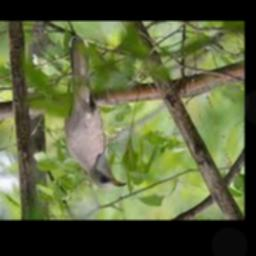Cuckoo: (64, 37, 127, 187)
